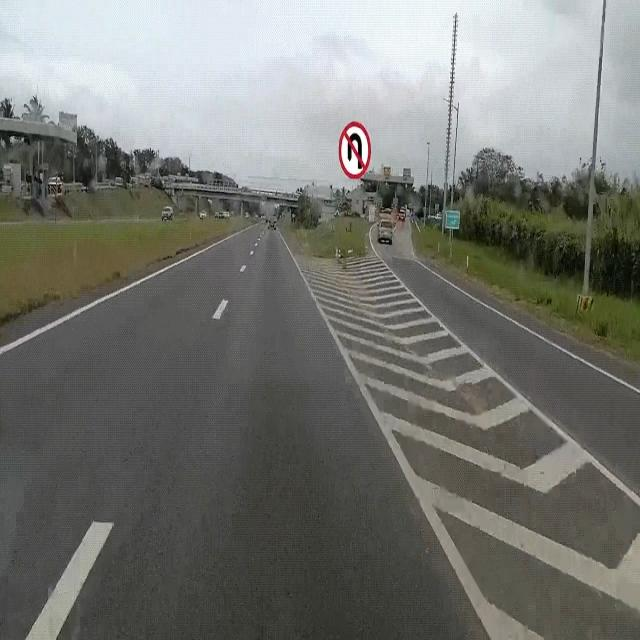Demi-Tour-Interdit: (335, 116, 375, 188)
